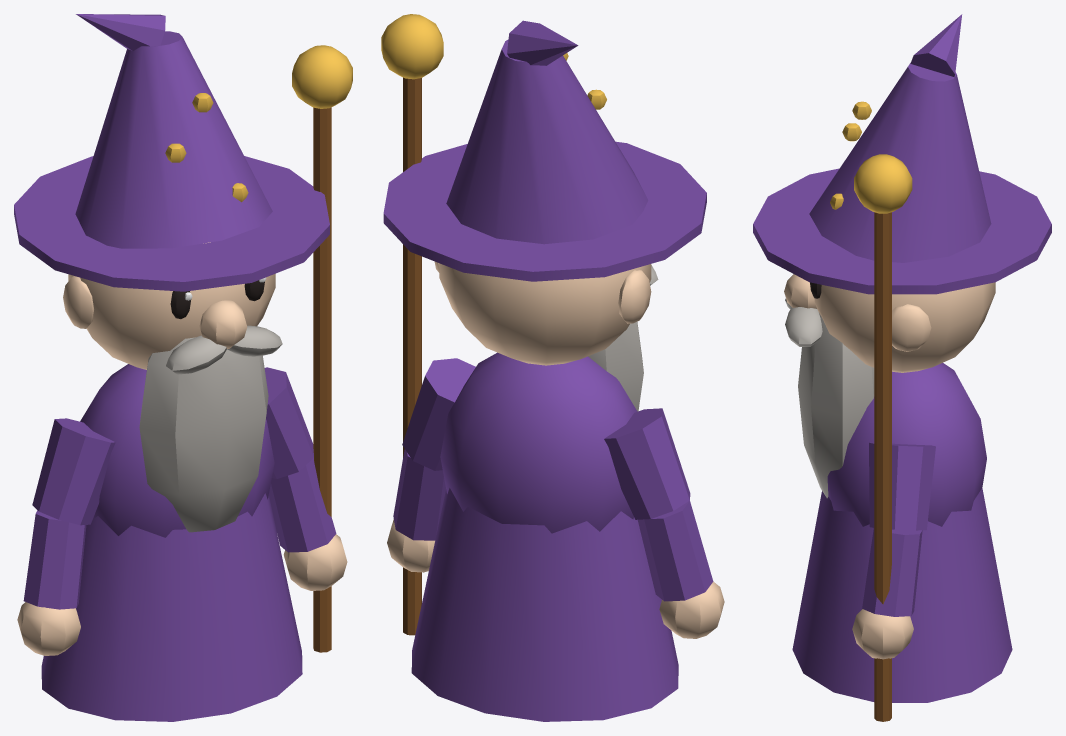
File: CH_Cust_20_Buyucu.fbx
The picture shows the model from 3 angles, left to right: view 1: azimuth 30°, elevation 25°; view 2: azimuth 150°, elevation 25°; view 3: azimuth 270°, elevation 25°; orthographic projection. The views are drawn at different scales.
Visible parts, largest first — view 1: CH_Cust_20_Buyucu; view 2: CH_Cust_20_Buyucu; view 3: CH_Cust_20_Buyucu.
Boxes of the visible parts, x1=… form: CH_Cust_20_Buyucu: x1=14, y1=14, x2=352, y2=721; CH_Cust_20_Buyucu: x1=381, y1=14, x2=724, y2=721; CH_Cust_20_Buyucu: x1=753, y1=14, x2=1051, y2=721.
Size of the model in its own units: 0.7098 by 1.36 by 0.6.
1 material, 1 textured.
